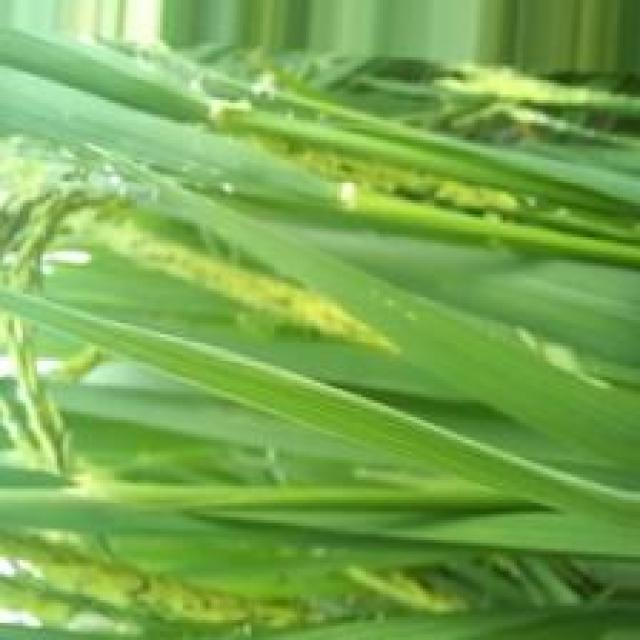HealthyLeaf: (0, 28, 640, 384), (121, 167, 640, 479), (0, 288, 640, 540)
